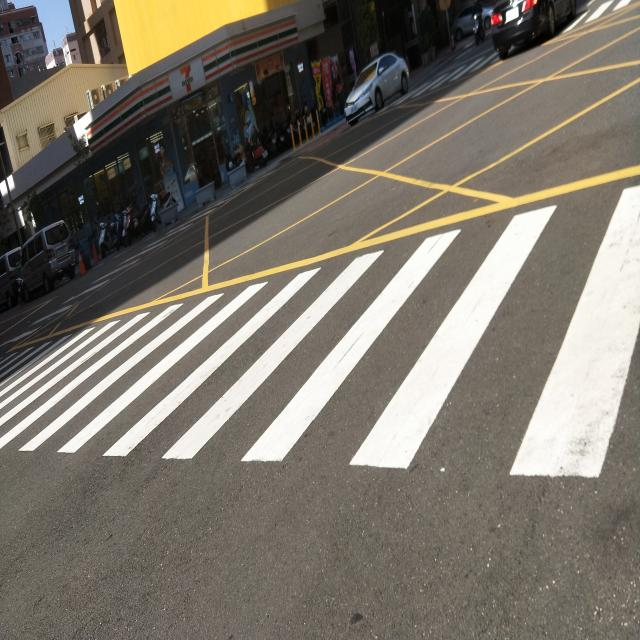zebra_crossing: (0, 133, 4, 583)
